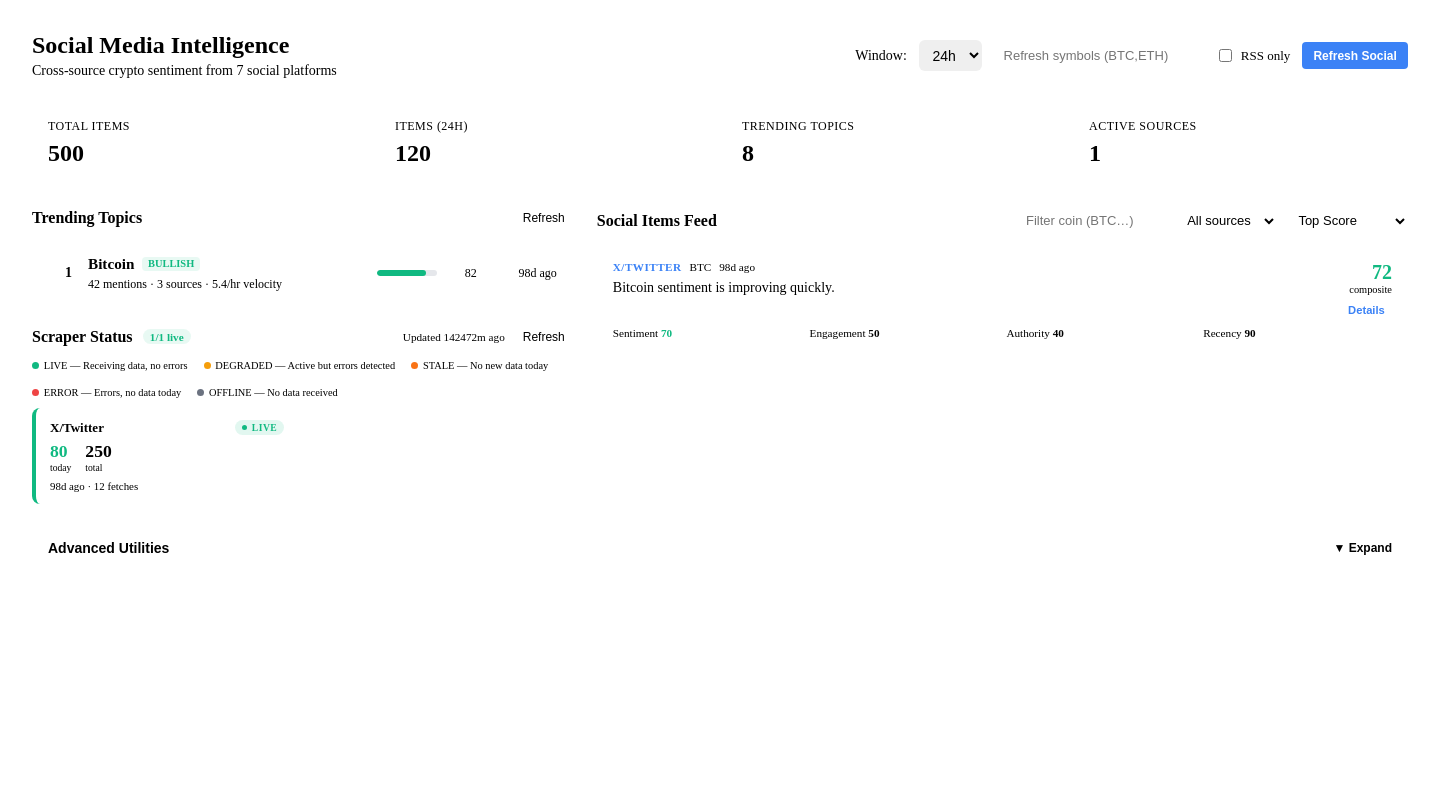
Test: SocialDashboard › AdvancedUtilitiesPanel › is collapsed by default and expands on click
Expected: the field labelled "Scrape symbol" is not shown
Click the button "Advanced Utilities ▼ Expand" at (109, 548), box [32, 528, 1408, 568]
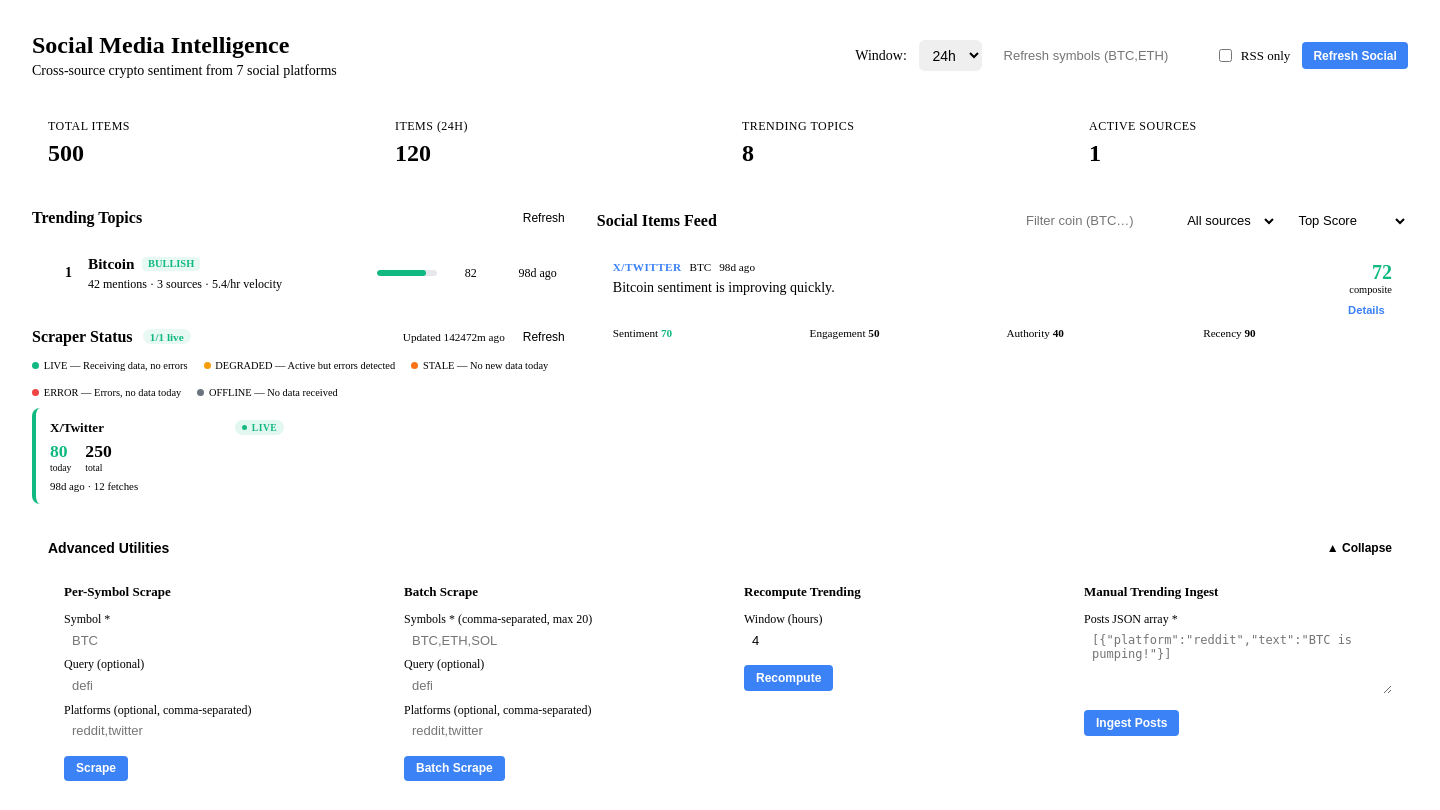
Expected: the field named "Scrape symbol" is shown, [64, 627, 372, 653]
